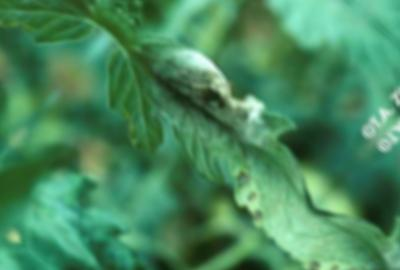Tomato leaf late blight: (78, 0, 361, 258)
